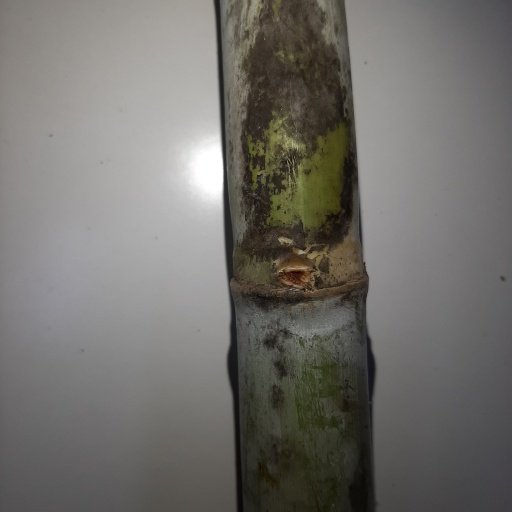Damage_Bud: (275, 259, 315, 288)
